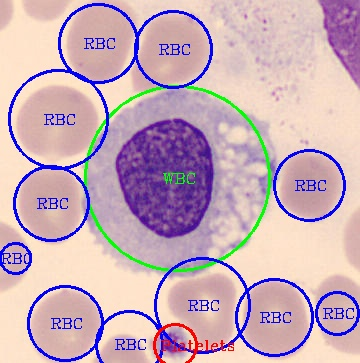Platelets: (146, 322, 192, 362)
RBC: (129, 9, 212, 95), (13, 81, 99, 159), (64, 0, 137, 85), (164, 271, 237, 352), (240, 277, 311, 360), (27, 286, 102, 361), (15, 164, 81, 247), (279, 147, 344, 222), (313, 273, 358, 357)
WBC: (85, 83, 278, 274)
